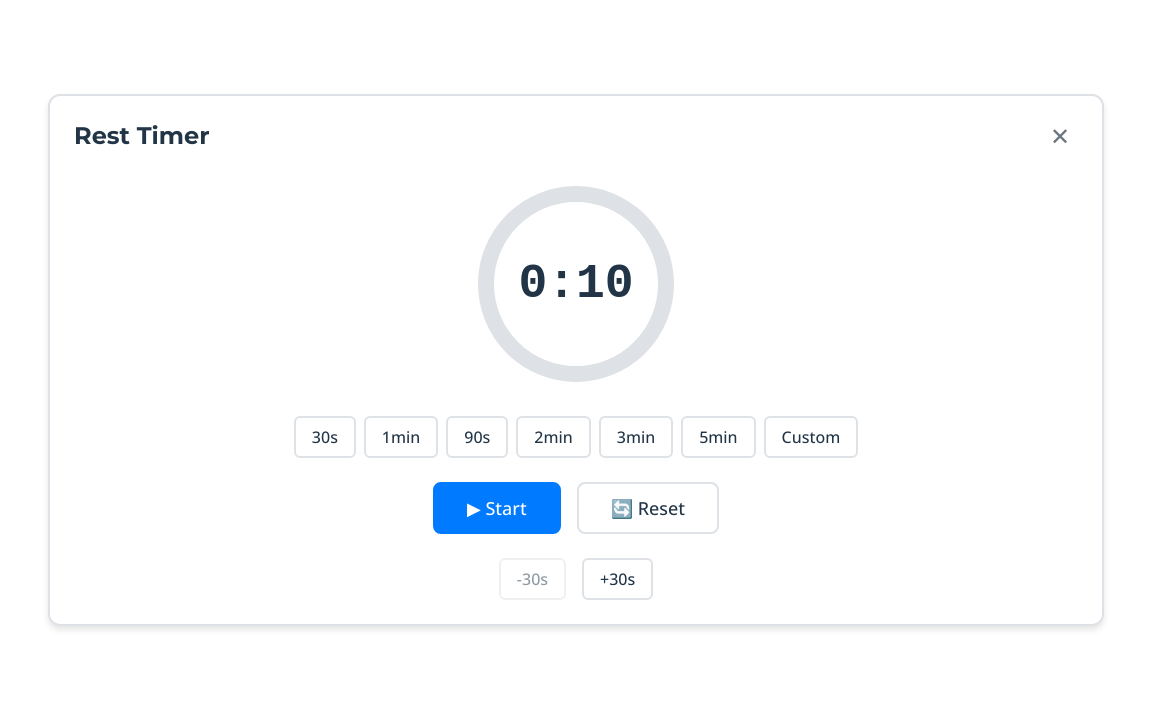
Scenario: RestTimer › starts and pauses timer on button click
The image size is (1152, 720).
Note: Start timer
Click the button with aria-label "Start timer". click: click(497, 508)
box: x1=433 y1=482 x2=561 y2=534
Wait 1000 ms
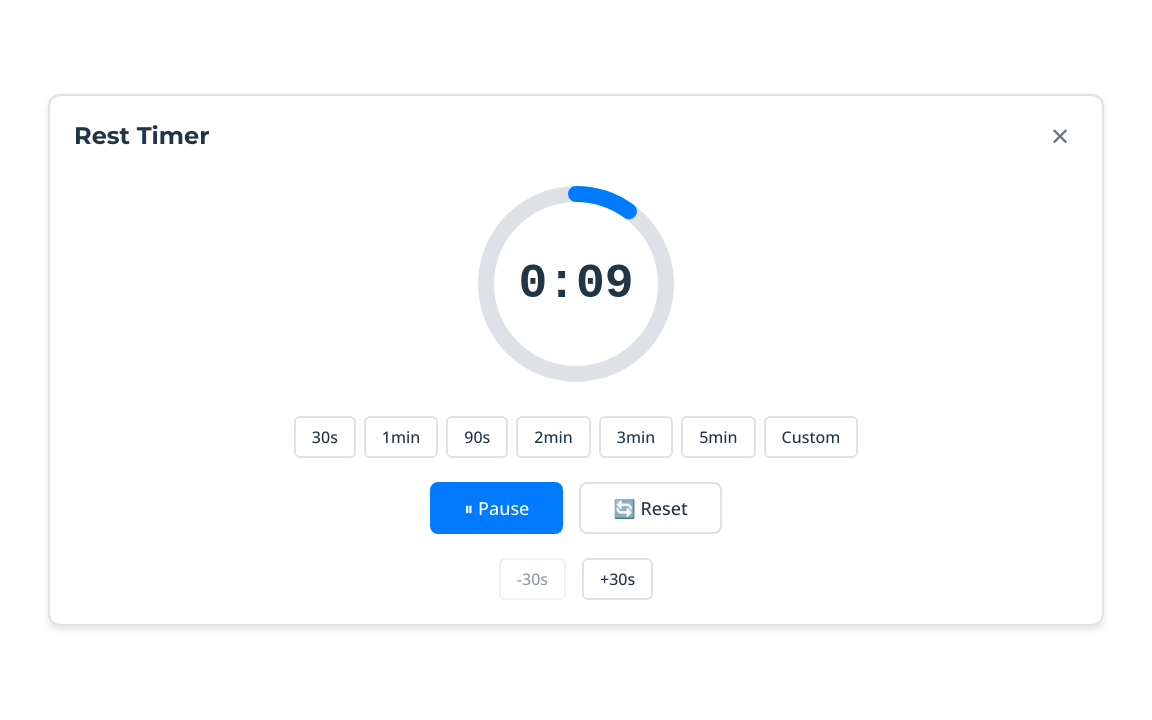
Check: the button with aria-label "Pause timer" reads "⏸ Pause"
Check: the text "0:09" is shown, box x1=518 y1=246 x2=634 y2=322
Note: Pause timer
Click the button with aria-label "Pause timer". click: click(497, 508)
box: x1=430 y1=482 x2=563 y2=534
Wait 1000 ms
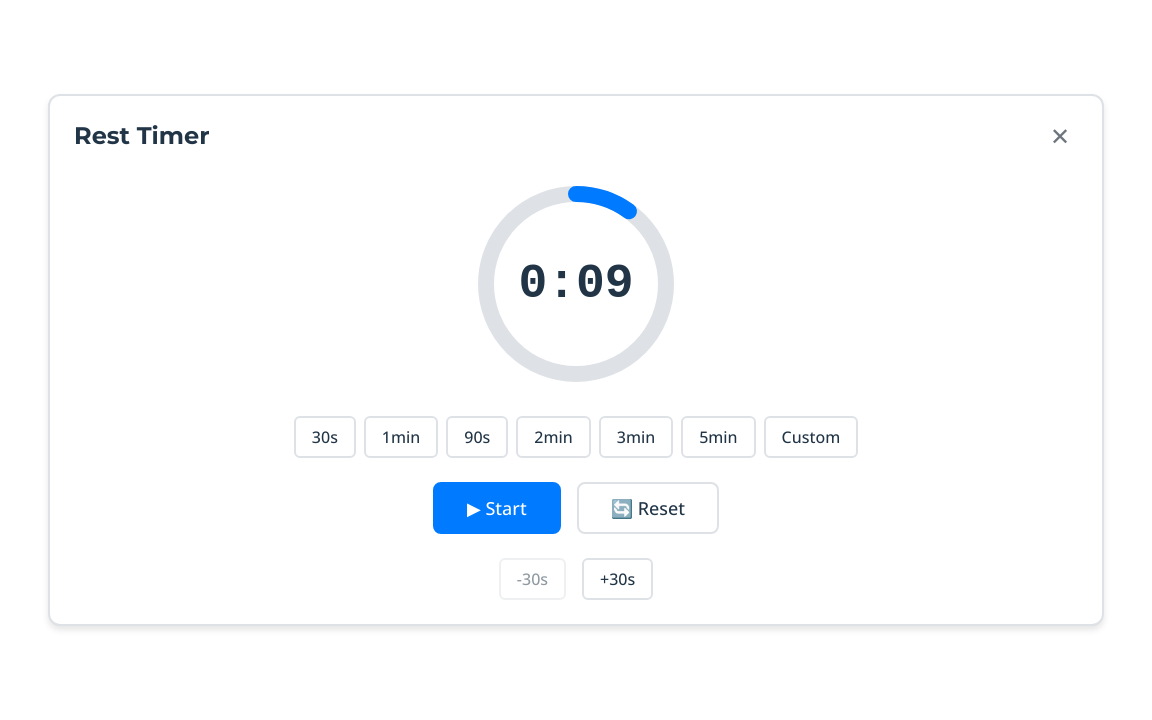
Check: the text "0:09" is shown, box x1=518 y1=246 x2=634 y2=322
Check: the button with aria-label "Start timer" reads "▶ Start", box x1=433 y1=482 x2=561 y2=534
